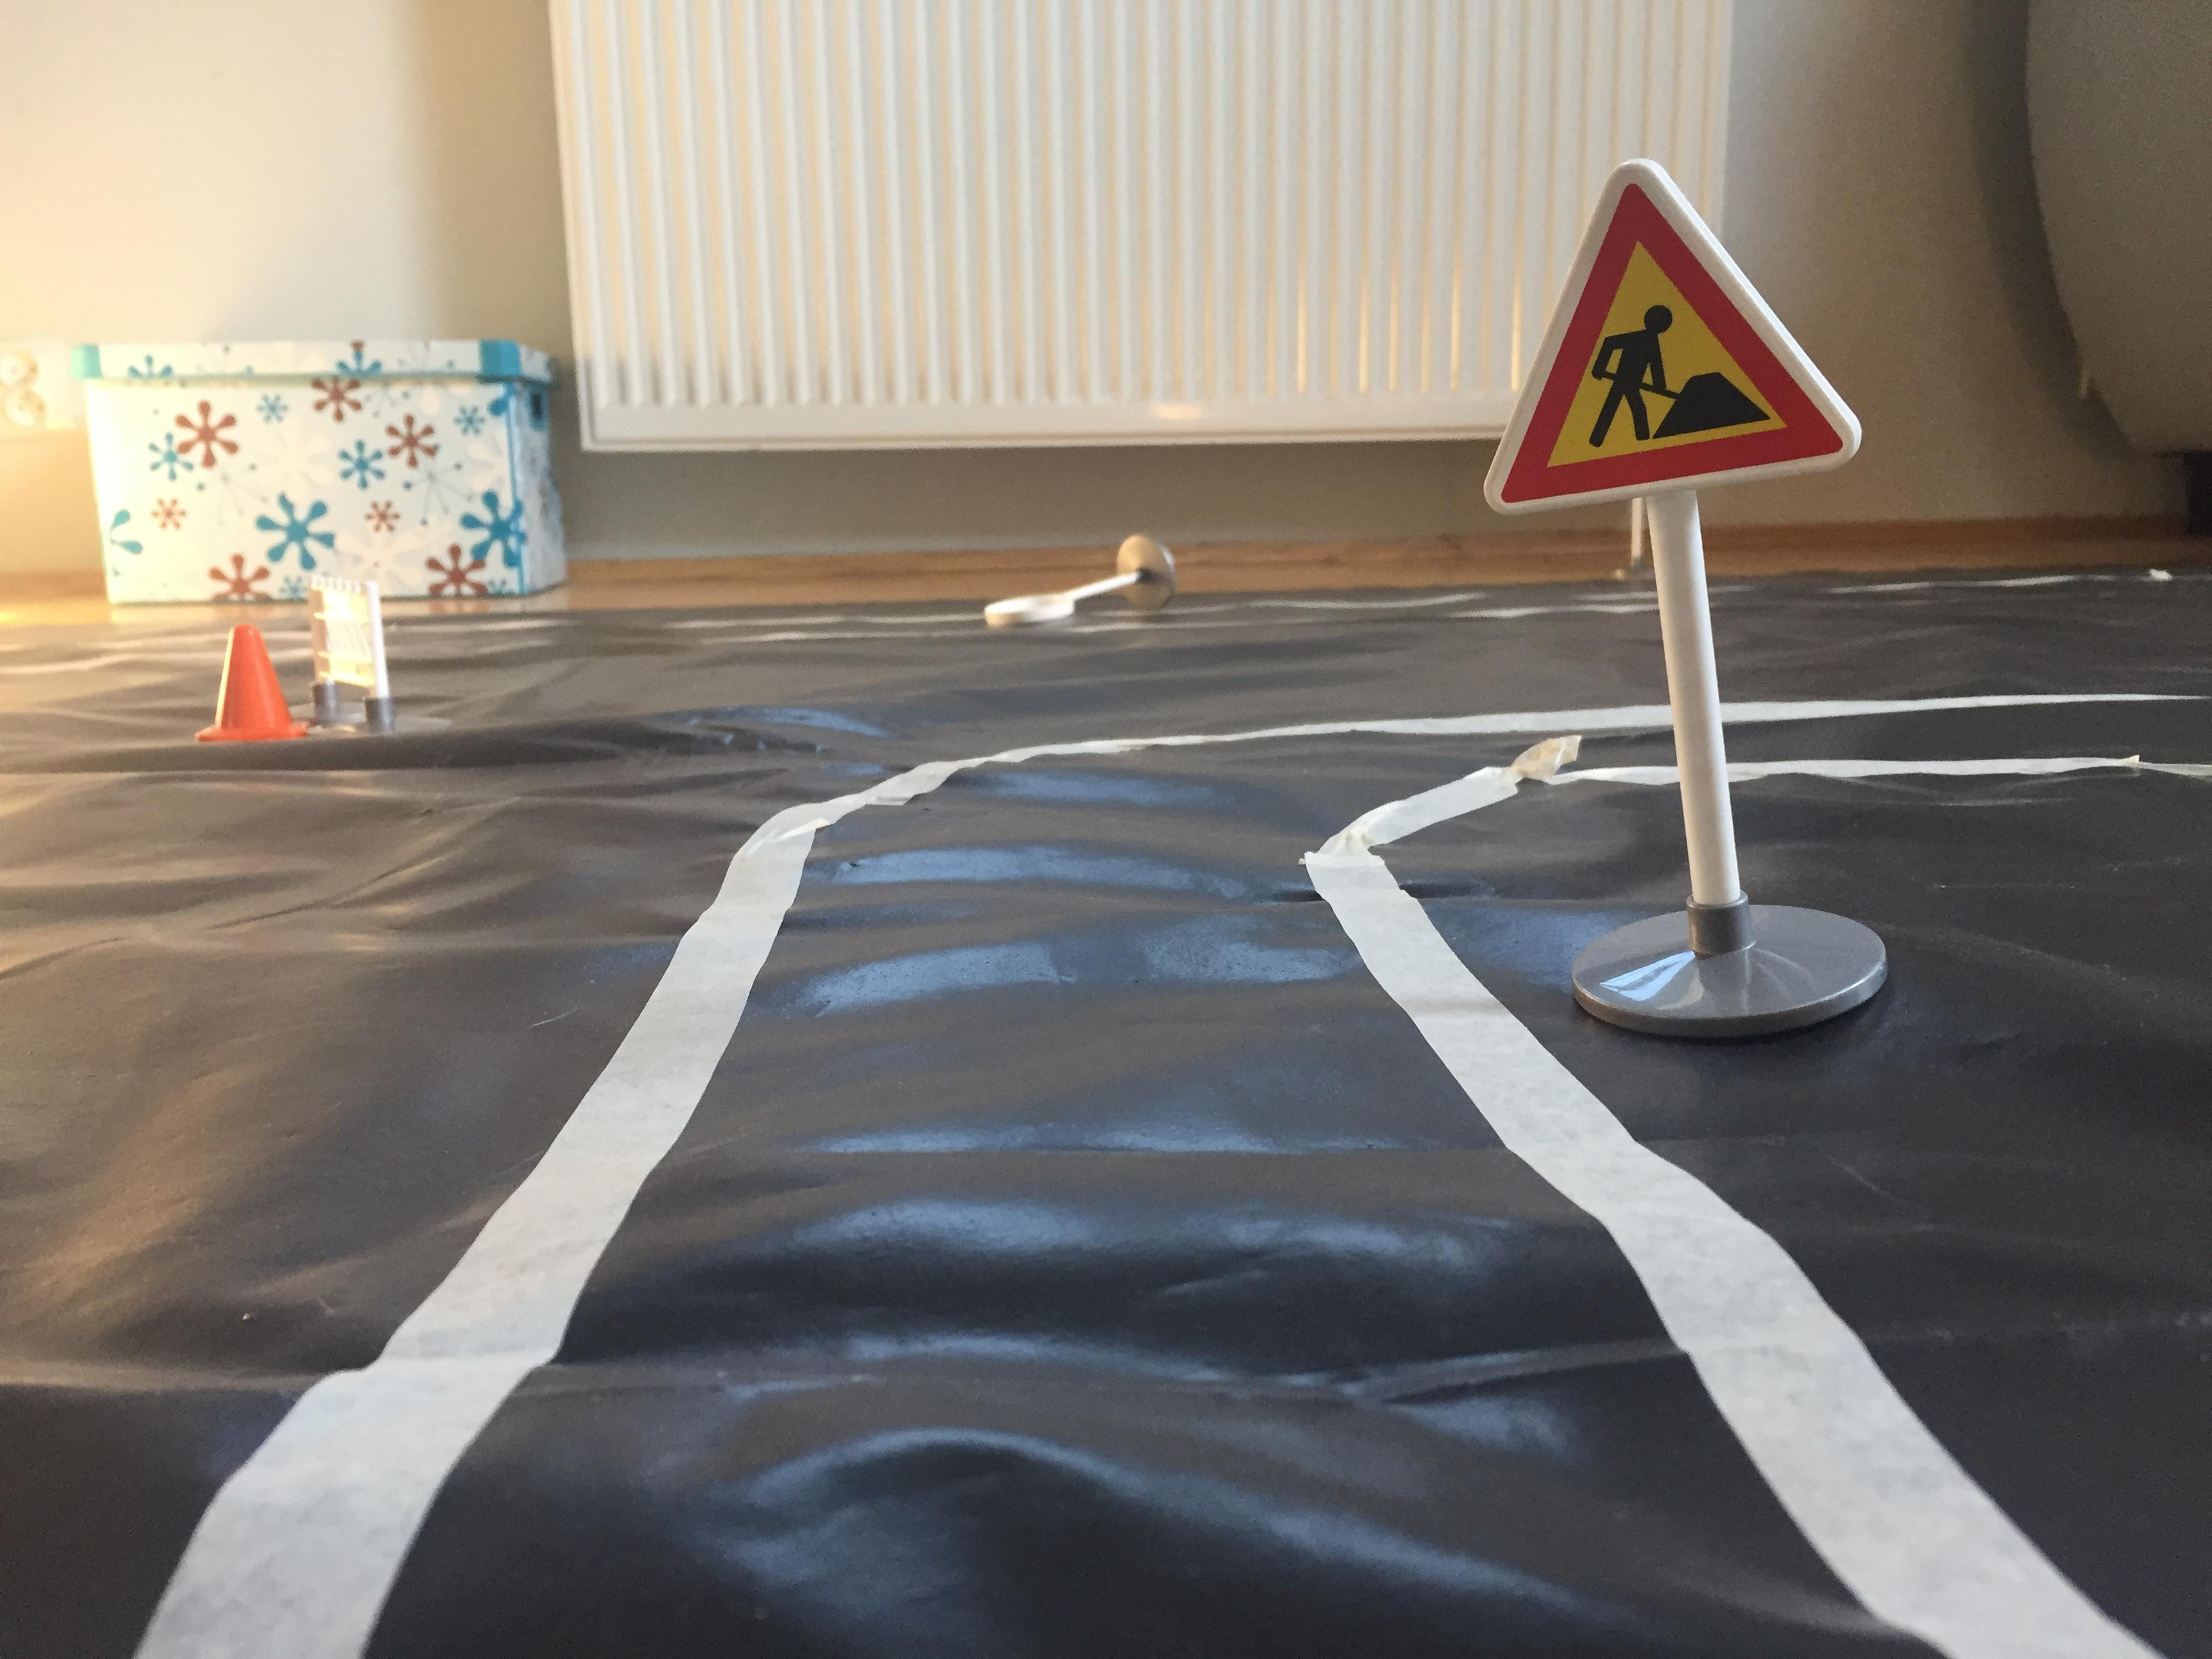work: (1467, 145, 1892, 523)
